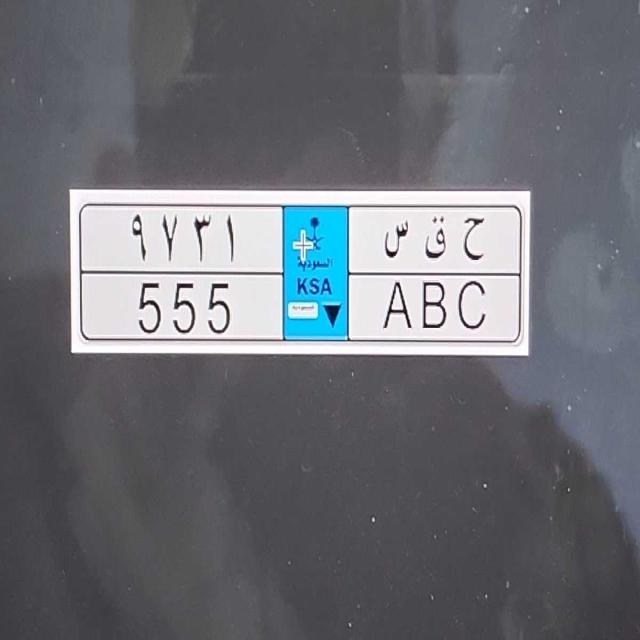license_plate: (97, 270, 508, 348)
